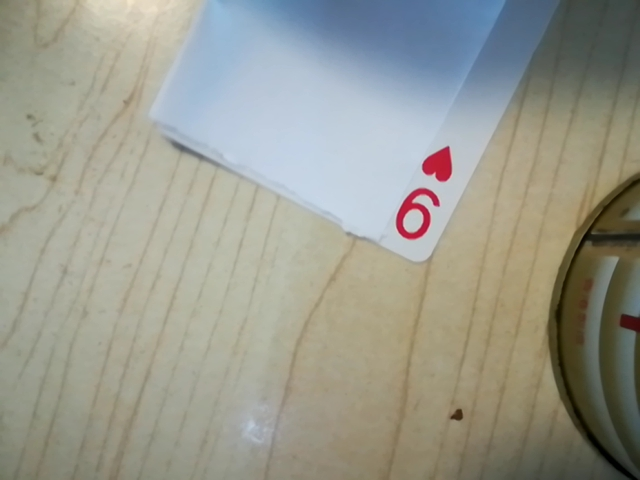hx 9: (385, 141, 459, 248)
